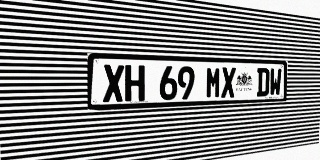6: (160, 66, 177, 100)
9: (178, 66, 195, 100)
D: (257, 68, 270, 97)
H: (125, 65, 145, 102)
M: (206, 67, 221, 98)
W: (269, 68, 282, 96)
X: (103, 64, 124, 102), (221, 67, 236, 98)
